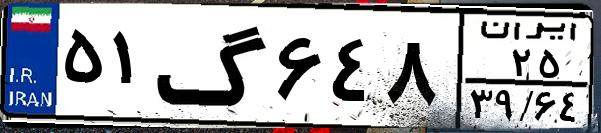1: (110, 28, 156, 98)
2: (508, 27, 537, 80)
3: (470, 70, 495, 125)
4: (330, 28, 385, 110), (560, 70, 590, 125)
5: (57, 26, 110, 100), (537, 27, 568, 80)
6: (270, 28, 330, 110), (535, 70, 560, 125)
8: (385, 28, 445, 110)
9: (495, 70, 520, 125)
گ: (156, 12, 270, 120)
